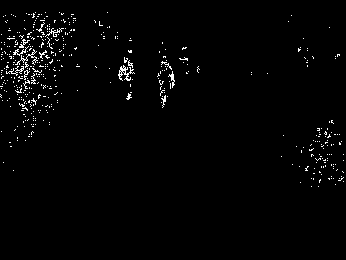person: (157, 55, 174, 109)
